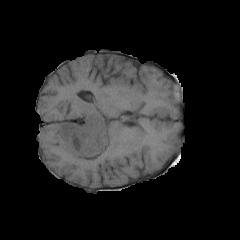glioma: (59, 92, 111, 161)
